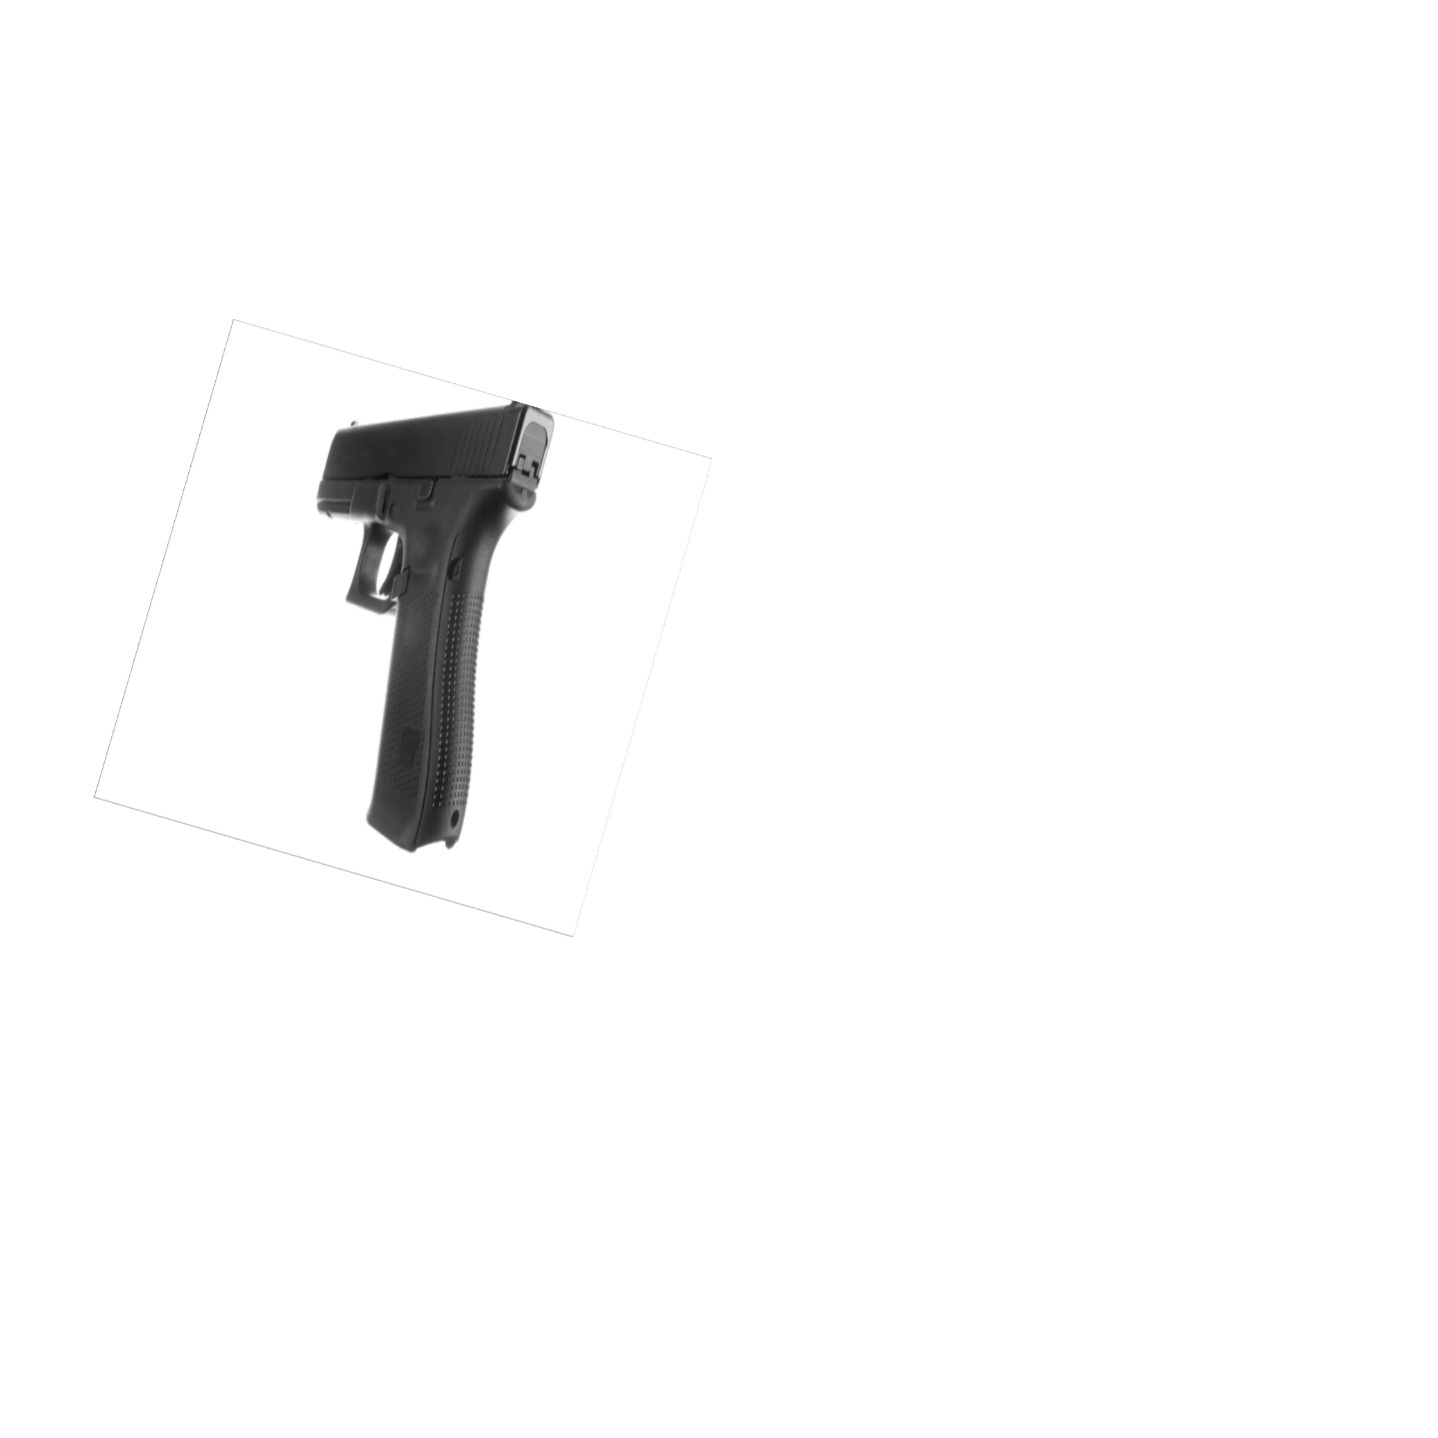gun: (311, 395, 564, 859)
